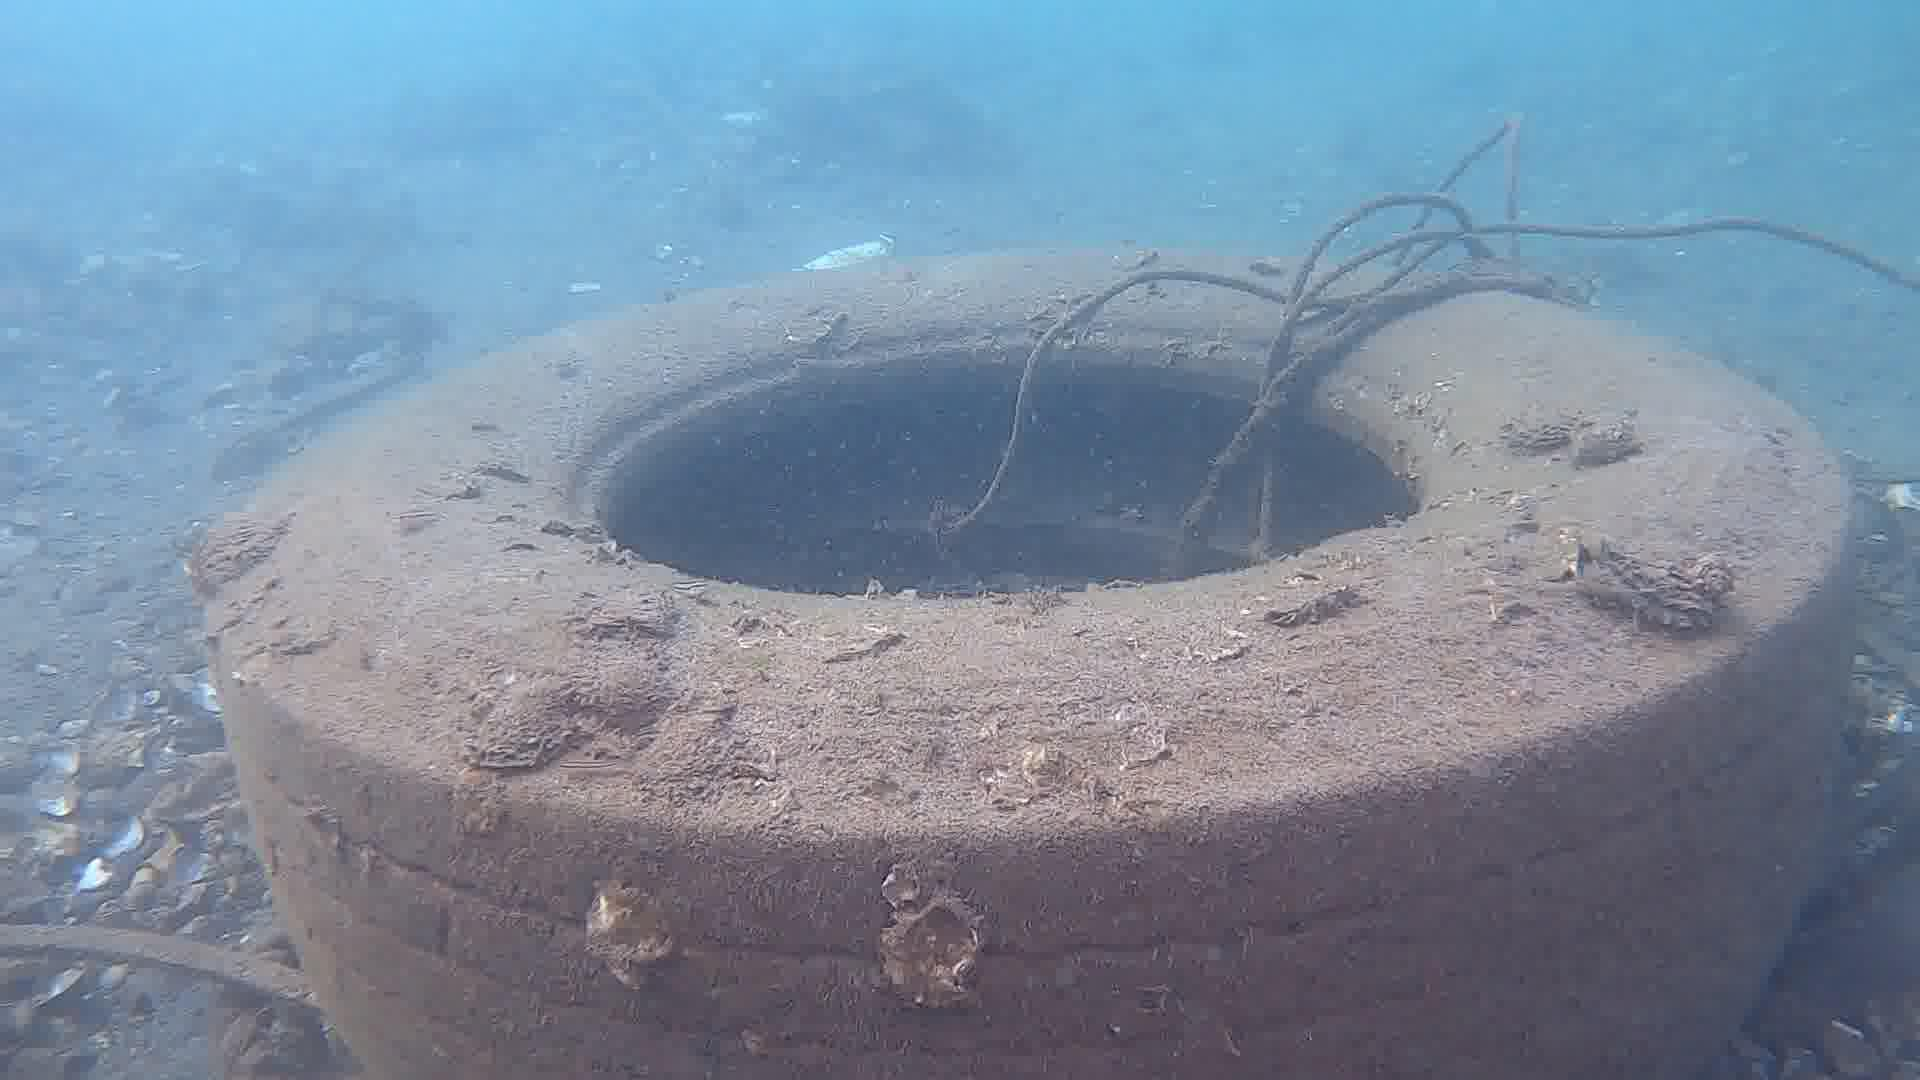bundle of ropes: (948, 111, 1920, 556)
tire: (204, 244, 1857, 1080)
